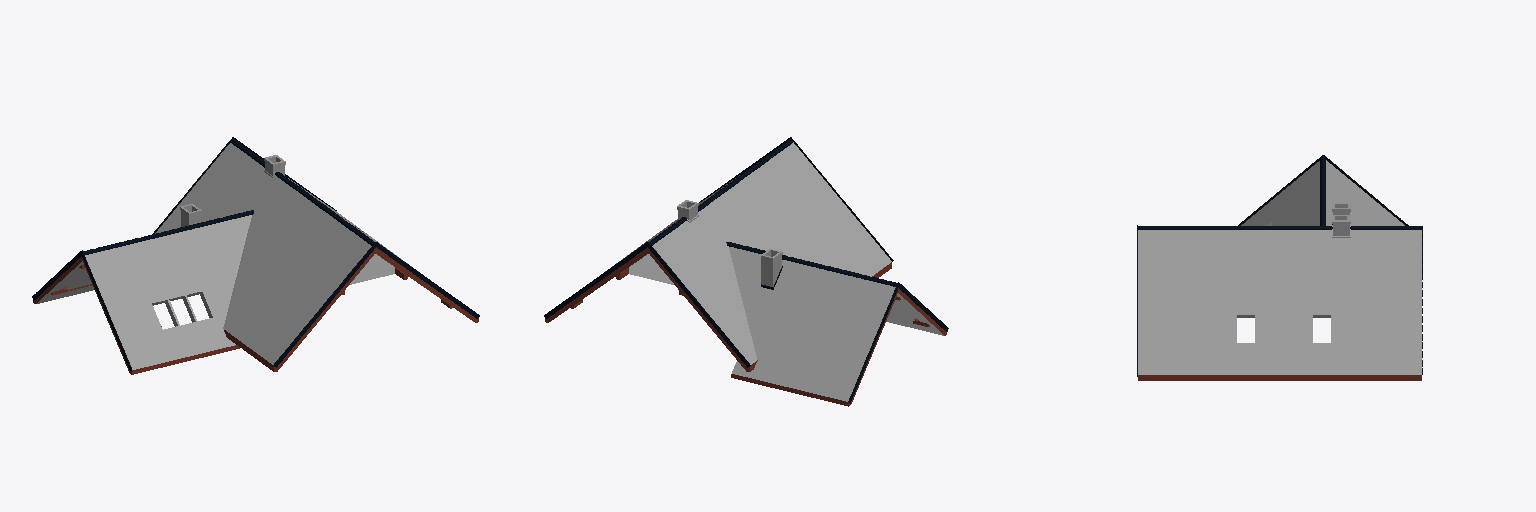
Rendered from roof.obj.
3 views of the same model, side by side, from view 1: azimuth 30°, elevation 25°; view 2: azimuth 150°, elevation 25°; view 3: azimuth 270°, elevation 25° (orthographic).
Parts seen in each view (by area): view 1: roof, roof_001, cover_sides_001, cover_roof_001, chimney_002, ceiling_006, ceiling_001; view 2: roof, roof_001, cover_sides_001, cover_roof_001, chimney_002, ceiling_005; view 3: roof, roof_001, cover_roof_001, cover_sides_001, chimney_002.
Boxes of the visible parts, <box> form: roof: <box>155,143,478,371</box>; roof_001: <box>33,215,251,374</box>; cover_sides_001: <box>32,137,479,371</box>; cover_roof_001: <box>83,139,374,254</box>; chimney_002: <box>180,155,285,226</box>; ceiling_006: <box>64,271,212,326</box>; ceiling_001: <box>360,254,394,279</box>; roof: <box>545,142,891,371</box>; roof_001: <box>729,247,946,406</box>; cover_sides_001: <box>544,137,948,403</box>; cover_roof_001: <box>649,139,897,286</box>; chimney_002: <box>677,200,782,289</box>; ceiling_005: <box>629,254,663,279</box>; roof: <box>1138,230,1421,380</box>; roof_001: <box>1241,160,1404,225</box>; cover_roof_001: <box>1138,156,1421,229</box>; cover_sides_001: <box>1137,155,1422,376</box>; chimney_002: <box>1332,203,1350,237</box>.
Size of the model in its own units: 6.1 by 2.36 by 4.96.